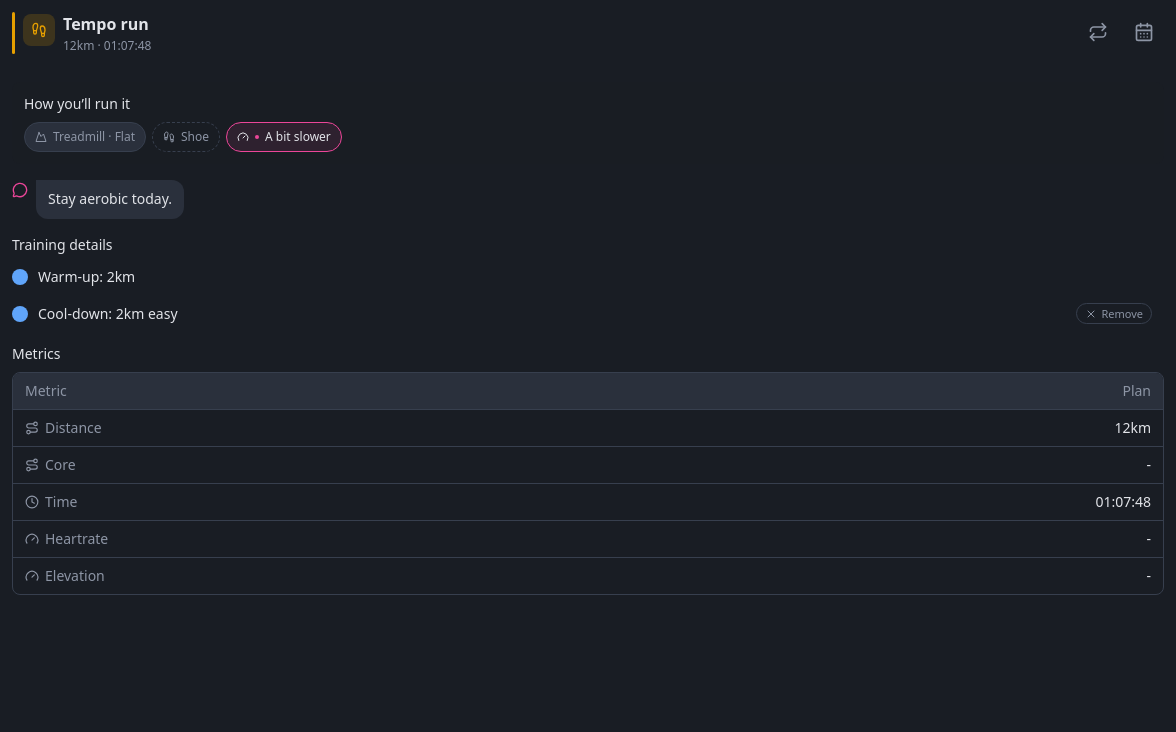
Test: setup errors outside the sheet › shows why a refused cool-down change did nothing
Expected: the text "Cool-down: 2km easy" is shown, [38, 304, 178, 323]
Click the text "Remove" at {"x": 1114, "y": 314}, box [1076, 303, 1152, 324]
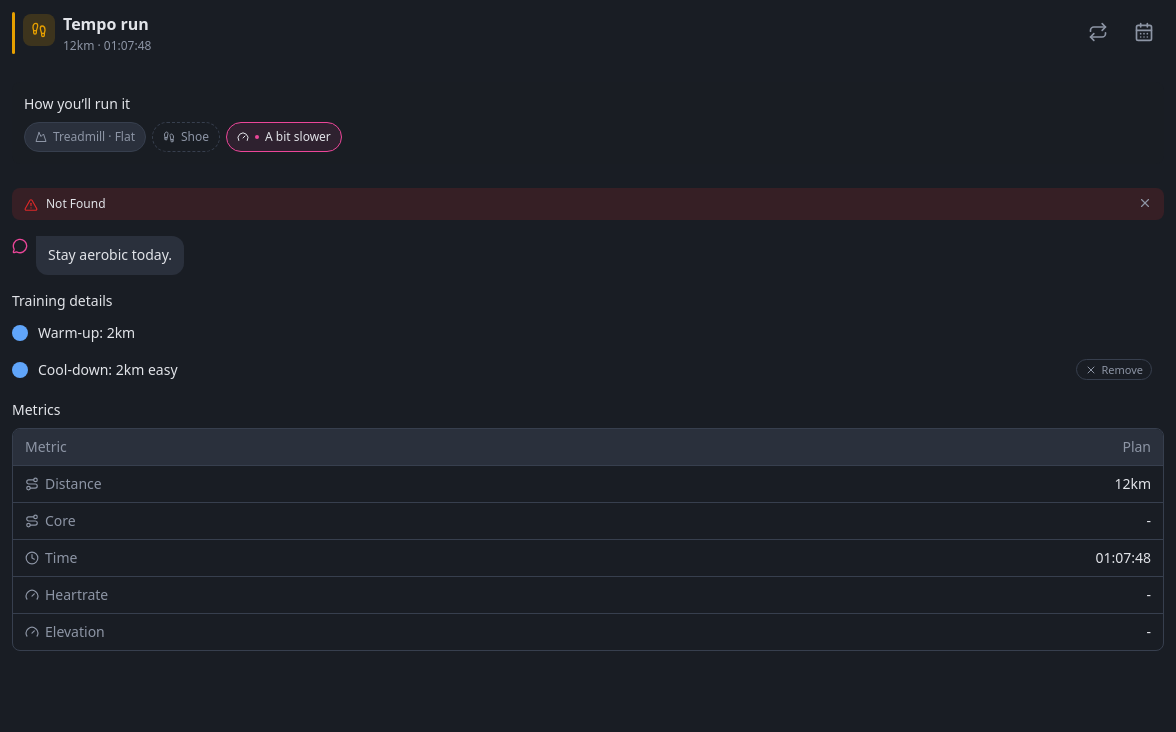
Expected: the text "Cool-down: 2km easy" is shown, [38, 360, 178, 379]
Expected: the text "Not Found" is shown, [46, 195, 106, 212]
